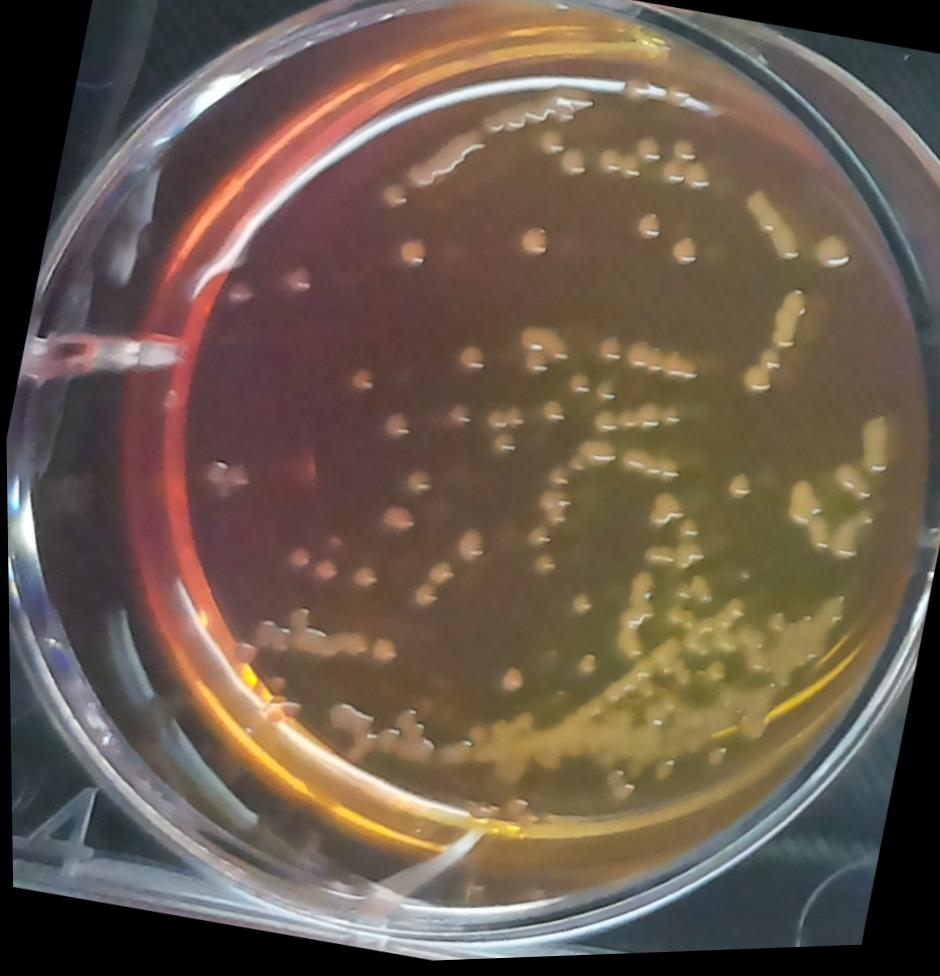vharveyi: (401, 114, 489, 209), (769, 470, 829, 541), (844, 412, 898, 489), (615, 440, 685, 493), (763, 289, 812, 362), (735, 344, 786, 403), (509, 222, 561, 273), (569, 436, 619, 484), (274, 253, 321, 304), (715, 465, 762, 516), (643, 487, 687, 538), (664, 536, 712, 582), (387, 232, 434, 277), (340, 362, 382, 406), (563, 647, 602, 690), (374, 178, 415, 218), (515, 519, 554, 556), (564, 590, 597, 625)
